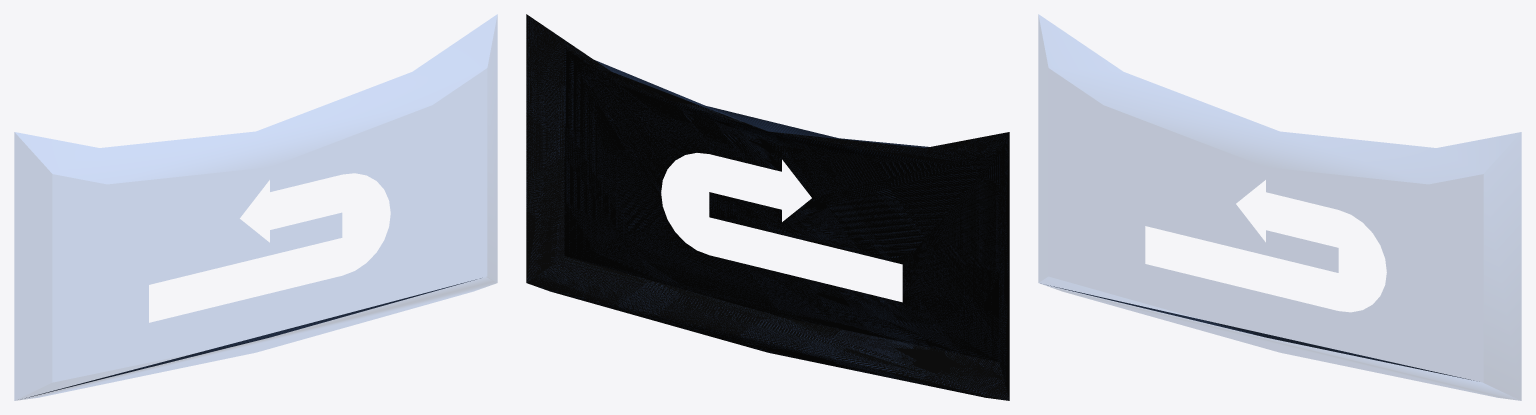
File: original-19.obj
3 views of the same model, side by side, from view 1: azimuth 30°, elevation 25°; view 2: azimuth 150°, elevation 25°; view 3: azimuth 330°, elevation 25° (orthographic).
Parts seen in each view (by area): view 1: 3dw.7bdffa69c49eb1d7bf653fdedcac4c5b#4/Model/mesh9/mesh9-geometr; view 2: 3dw.7bdffa69c49eb1d7bf653fdedcac4c5b#4/Model/mesh9/mesh9-geometr; view 3: 3dw.7bdffa69c49eb1d7bf653fdedcac4c5b#4/Model/mesh9/mesh9-geometr.
Boxes of the visible parts, bbox=[...] form: 3dw.7bdffa69c49eb1d7bf653fdedcac4c5b#4/Model/mesh9/mesh9-geometr: bbox=[14, 14, 497, 400]; 3dw.7bdffa69c49eb1d7bf653fdedcac4c5b#4/Model/mesh9/mesh9-geometr: bbox=[526, 14, 1009, 400]; 3dw.7bdffa69c49eb1d7bf653fdedcac4c5b#4/Model/mesh9/mesh9-geometr: bbox=[1038, 14, 1521, 400].
Bounding box in the file's own units: 0.1739 × 0.0962 × 0.00869.
